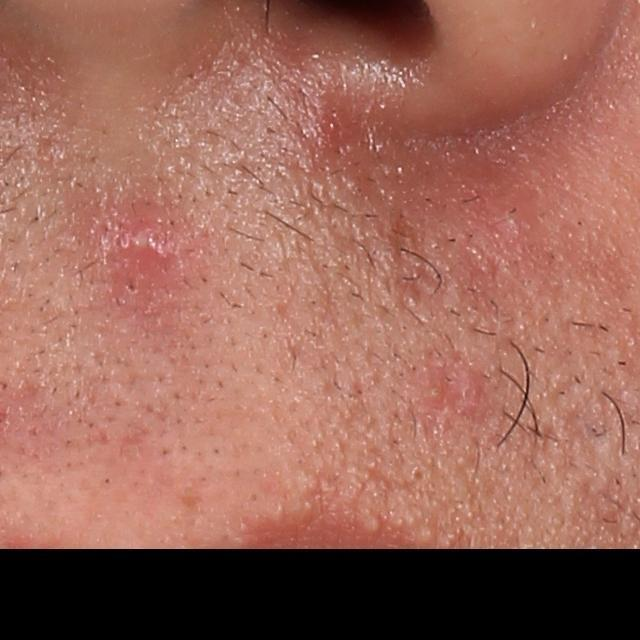comedo: (407, 462, 429, 485)
papule: (447, 374, 483, 409)
